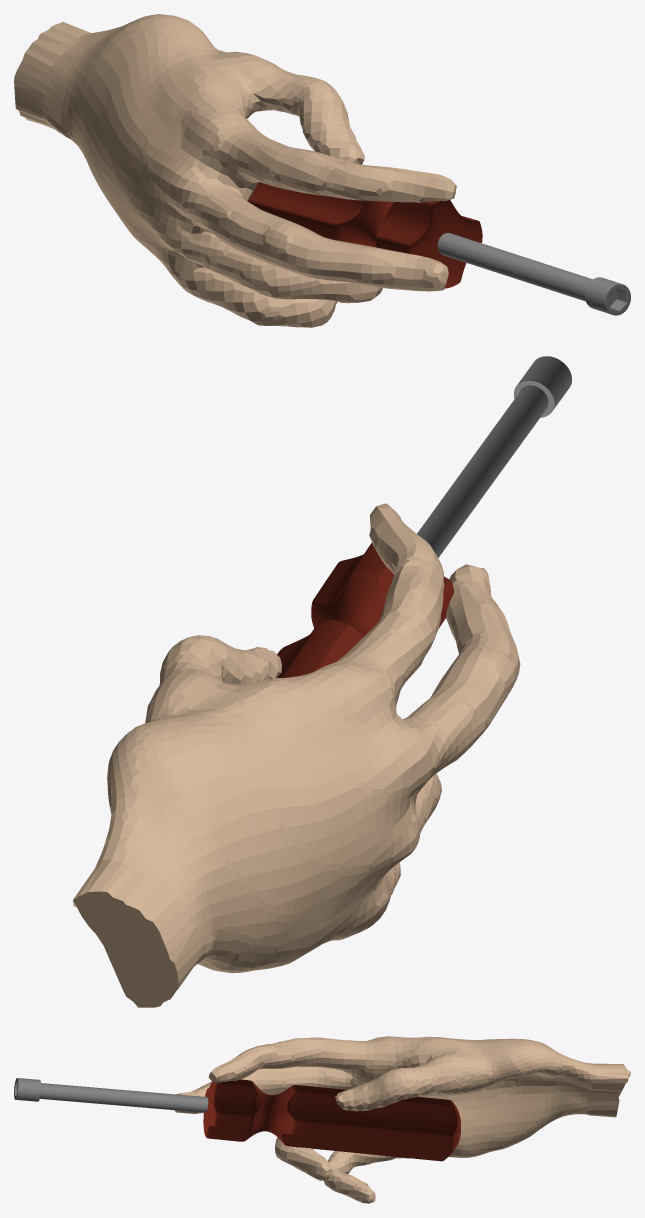
The model's file is hand-with-screwdriver.fbx.
The picture shows the model from 3 angles, top to bottom: view 1: azimuth 30°, elevation 25°; view 2: azimuth 150°, elevation 25°; view 3: azimuth 270°, elevation 25°; orthographic projection. The views are drawn at different scales.
Visible parts, largest first — view 1: Object03.001, hex_head_screwdriver_body; view 2: Object03.001, hex_head_screwdriver_body; view 3: Object03.001, hex_head_screwdriver_body.
Part boxes in pixels (<box>): Object03.001: <box>14,14,456,327</box>; hex_head_screwdriver_body: <box>248,182,630,315</box>; Object03.001: <box>73,503,520,1007</box>; hex_head_screwdriver_body: <box>277,356,571,677</box>; Object03.001: <box>175,1036,630,1203</box>; hex_head_screwdriver_body: <box>14,1078,460,1161</box>.
Bounding box in the file's own units: 280 × 299 × 1157.
